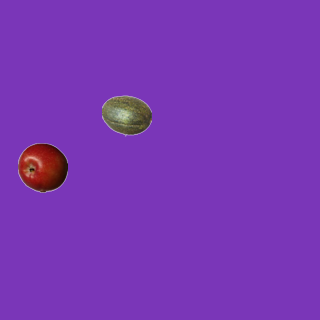Apple Braeburn: (17, 142, 67, 192)
Melon Piel de Sapo: (101, 90, 151, 140)
